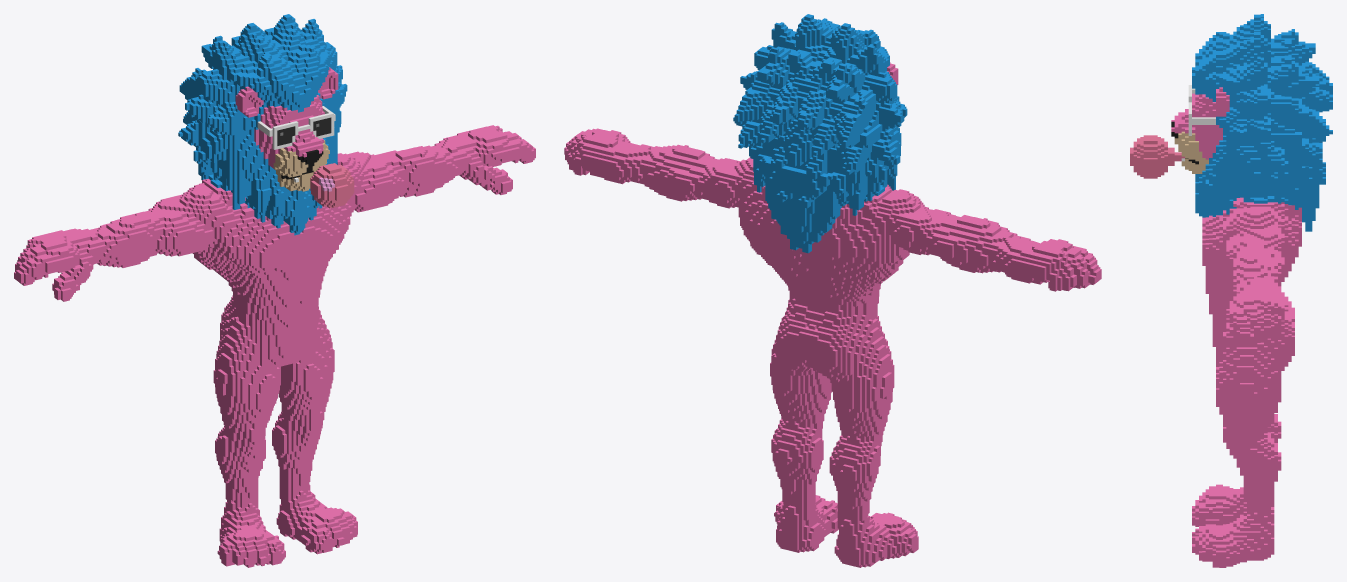
Rendered from 136-BWM0z5BA.glb.
The picture shows the model from 3 angles, left to right: view 1: azimuth 30°, elevation 25°; view 2: azimuth 150°, elevation 25°; view 3: azimuth 270°, elevation 25°; orthographic projection. The views are drawn at different scales.
Parts seen in each view (by area): view 1: bubble_gum; view 2: bubble_gum; view 3: bubble_gum.
Part boxes in pixels (x1,y1,x2,y2): bubble_gum: [14, 14, 535, 567]; bubble_gum: [564, 14, 1101, 567]; bubble_gum: [1130, 14, 1332, 567].
Bounding box in the file's own units: 17.2 × 16.5 × 5.9.
Materials: 4 (4 with a texture image).
